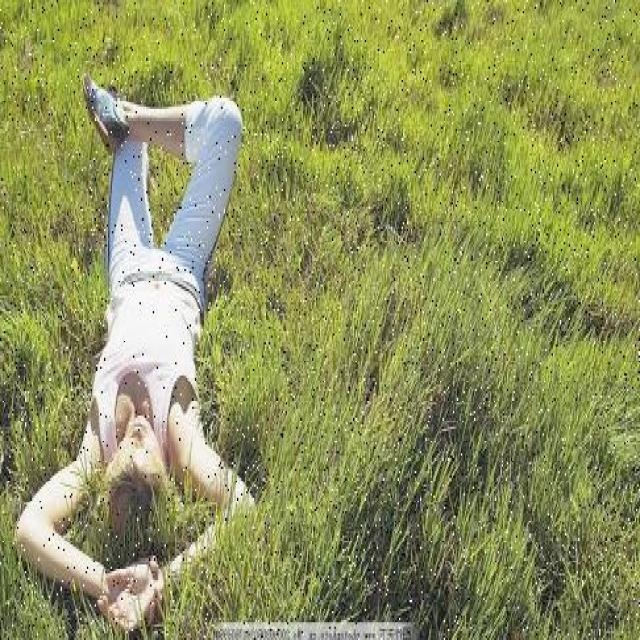fall: (41, 89, 248, 607)
